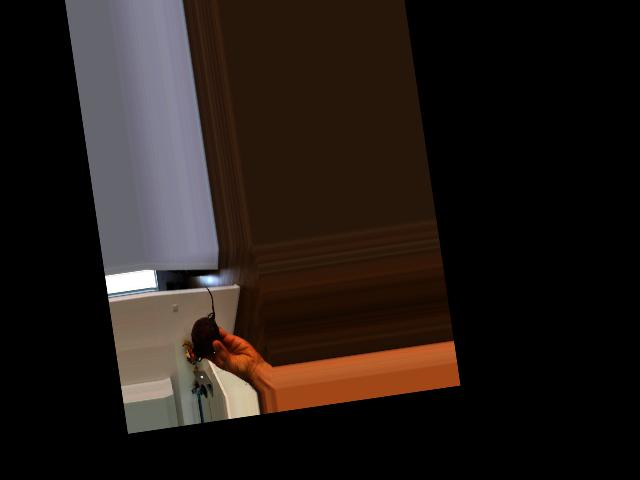beet: (183, 284, 223, 361)
